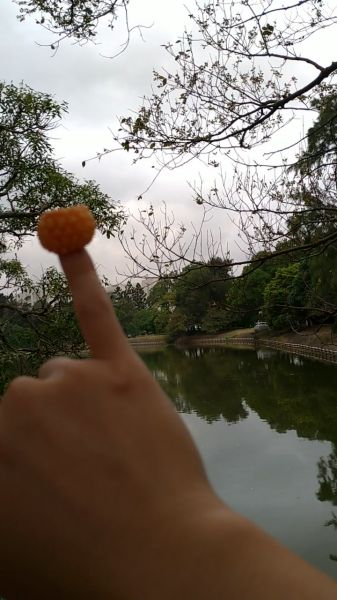eggs: (38, 205, 96, 253)
